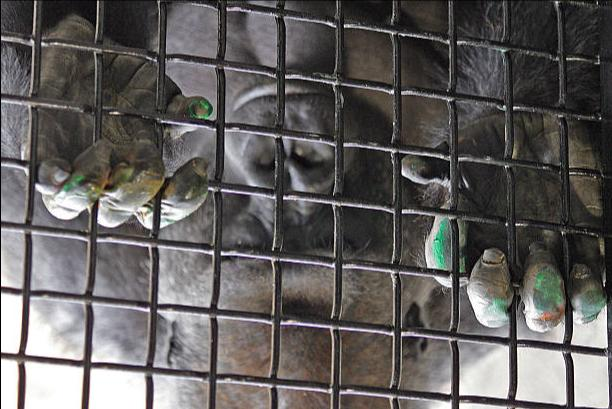gorille_Autres: (0, 0, 572, 408)
